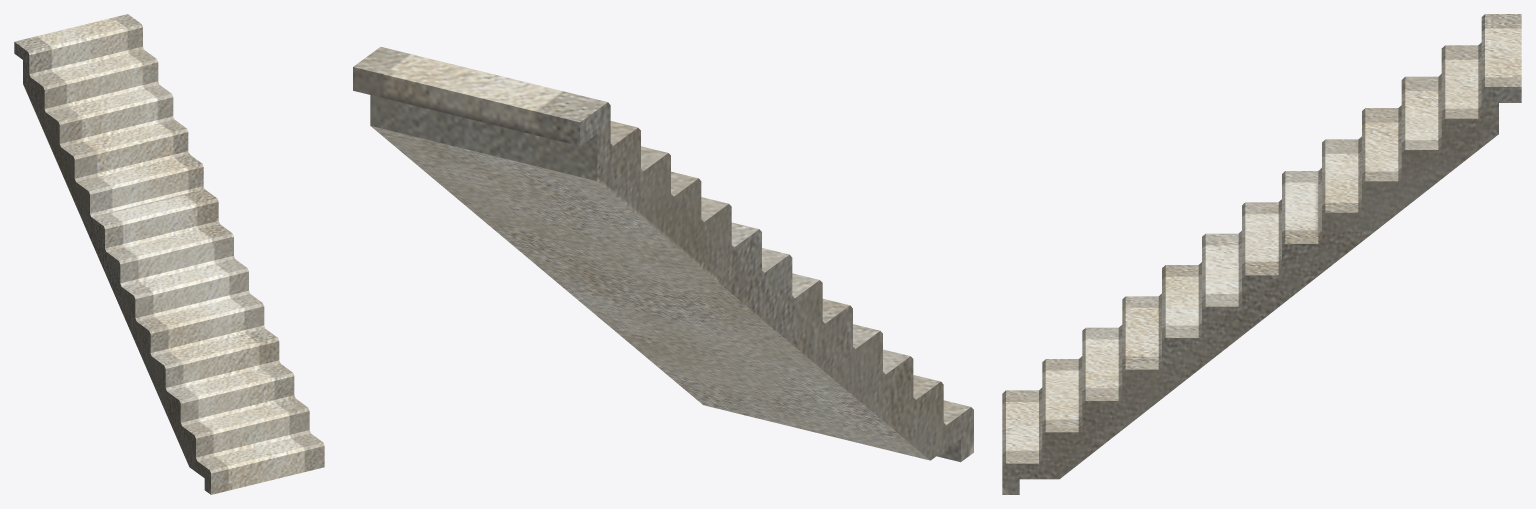
File: Stairs_2_75mX1m.fbx
The picture shows the model from 3 angles, left to right: view 1: azimuth 30°, elevation 25°; view 2: azimuth 150°, elevation 25°; view 3: azimuth 270°, elevation 25°; orthographic projection. The views are drawn at different scales.
Visible parts, largest first — view 1: Stairs; view 2: Stairs; view 3: Stairs.
Boxes of the visible parts, box(x1,y1,x2,y2) form: Stairs: box(14, 14, 324, 494); Stairs: box(353, 47, 973, 462); Stairs: box(1002, 14, 1521, 494).
Size of the model in its own units: 100 by 260 by 300.
1 material, 1 textured.
